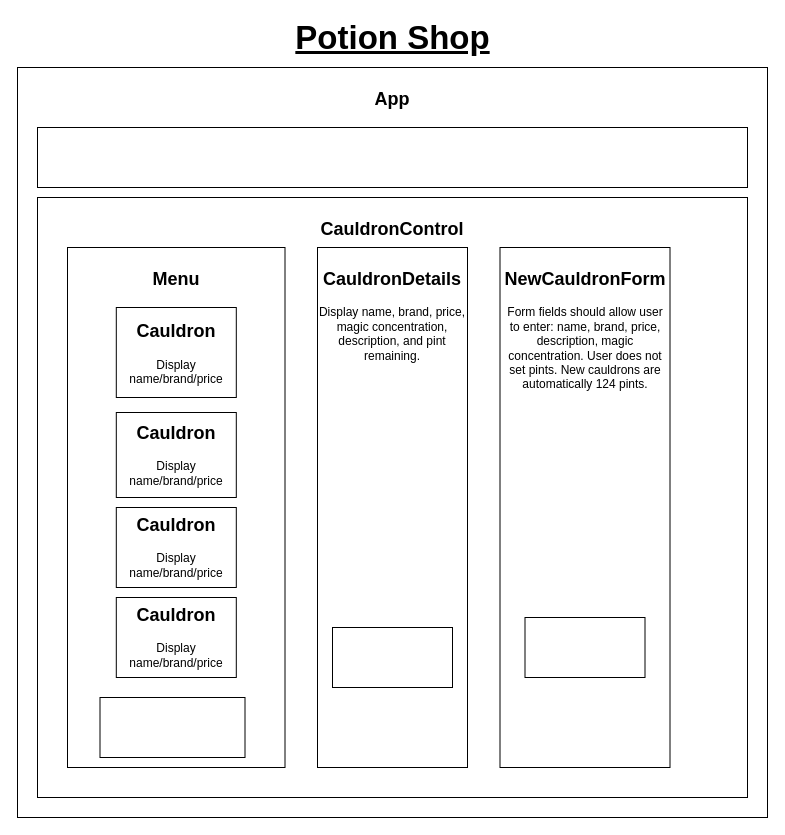
Image size: 785x835. Some labels were removed from this diagram. Here are the shapes that lost their labels. From the top down, the centre of each, then its label:
At [392,157]: "Header".
At [392,657]: "BuyPintButton".
At [584,647]: "Submit".
At [172,727]: "AddCauldronButton".
